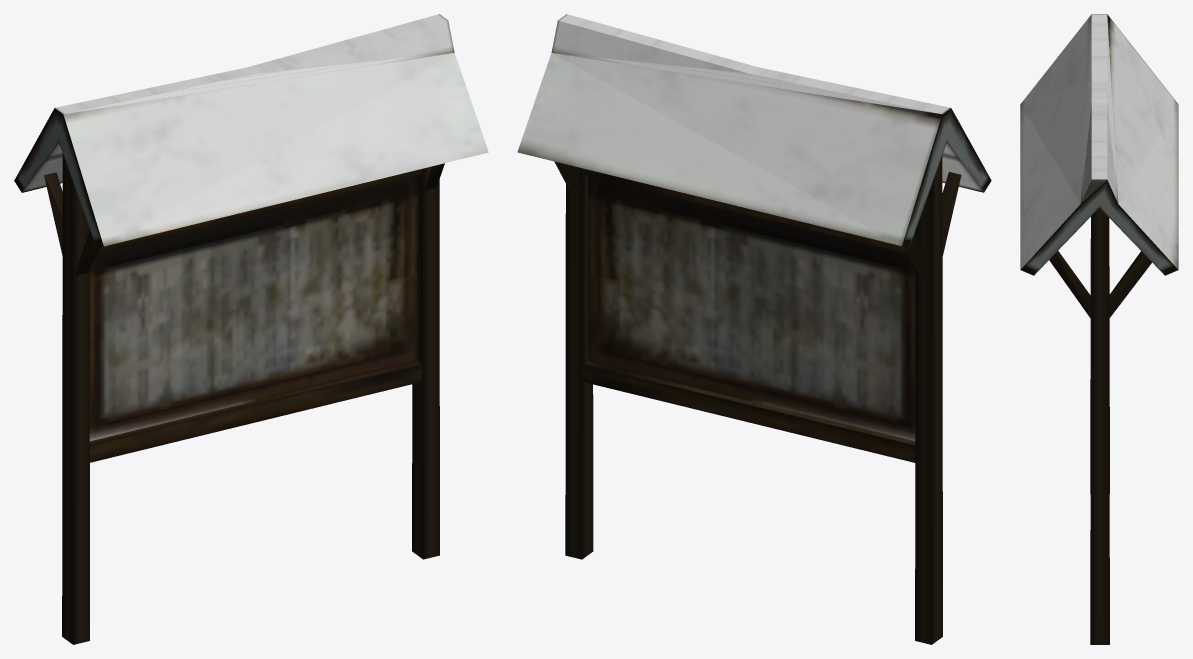
3 renders of one model, left to right at view 1: azimuth 30°, elevation 25°; view 2: azimuth 150°, elevation 25°; view 3: azimuth 270°, elevation 25°, orthographic. The views are drawn at different scales.
Parts seen in each view (by area): view 1: Sphere01; view 2: Sphere01; view 3: Sphere01.
Part boxes in pixels (x1,y1,x2,y2): Sphere01: (14, 14, 488, 644); Sphere01: (517, 14, 991, 644); Sphere01: (1020, 14, 1178, 644).
Size of the model in its own units: 2.27 by 3 by 0.9184.
